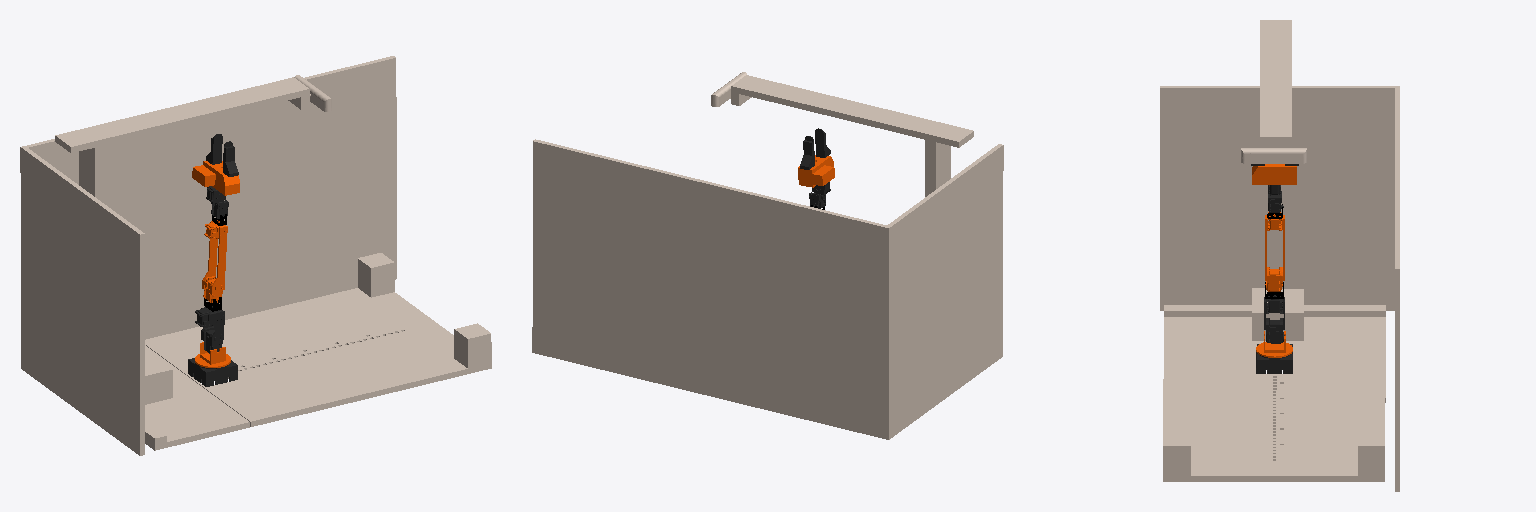
URDF robot description (clam):
<?xml version="1.0" ?>
<!-- =================================================================================== -->
<!-- |    This document was autogenerated by xacro from clam.xacro                     | -->
<!-- |    EDITING THIS FILE BY HAND IS NOT RECOMMENDED                                 | -->
<!-- =================================================================================== -->
<!-- Robot Description format of CLAM arm
[author] - [email redacted]
12/20/2012

Documentation:

URDF
http://www.ros.org/wiki/urdf/XML

Joint Safety Limits
http://www.ros.org/wiki/pr2_controller_manager/safety_limits

XARCO - Macro Language
http://www.ros.org/wiki/xacro

Gazebo Modeling
http://www.ros.org/wiki/simulator_gazebo/Tutorials/SpawningObjectInSimulation

-->
<robot name="clam">
  <!-- Include materials -->
  <material name="Black">
    <color rgba="0.0 0.0 0.0 1.0"/>
  </material>
  <material name="Blue">
    <color rgba="0.0 0.0 0.8 1.0"/>
  </material>
  <material name="Green">
    <color rgba="0.0 0.8 0.0 1.0"/>
  </material>
  <material name="Grey">
    <color rgba="0.2 0.2 0.2 1.0"/>
  </material>
  <material name="Orange">
    <color rgba="1.0 0.423529411765 0.0392156862745 1.0"/>
  </material>
  <material name="Brown">
    <color rgba="0.870588235294 0.811764705882 0.764705882353 1.0"/>
  </material>
  <material name="Red">
    <color rgba="0.8 0.0 0.0 1.0"/>
  </material>
  <material name="White">
    <color rgba="1.0 1.0 1.0 1.0"/>
  </material>
  <material name="GunMetalBrushedAluminum">
    <texture filename="package://clam_description/media/gun_metal_brushed_aluminum.jpg"/>
  </material>
  <!-- Constants -->
  <!-- TABLETOP LINK -->
  <joint name="tabletop_joint" type="fixed">
    <origin rpy="0 0 0" xyz="0 0 0"/>
    <parent link="base_link"/>
    <child link="tabletop_link"/>
  </joint>
  <link name="tabletop_link">
    <inertial>
      <origin xyz=" 0 0 -0.017"/>
      <mass value="100.0"/>
      <inertia ixx="1.0" ixy="0.0" ixz="0.0" iyy="100.0" iyz="0.0" izz="1.0"/>
    </inertial>
    <visual>
      <origin rpy="1.57 0 1.57" xyz=" 0 0 -0.017"/>
      <geometry>
        <mesh filename="package://clam_description/stl/tabletop_link.STL" scale="0.001 0.001 0.001"/>
      </geometry>
      <material name="Brown"/>
    </visual>
    <collision>
      <origin rpy="1.57 0 1.57" xyz=" 0 0 -0.017"/>
      <geometry>
        <mesh filename="package://clam_description/stl/tabletop_link_simple.STL" scale="0.001 0.001 0.001"/>
      </geometry>
    </collision>
  </link>
  <gazebo reference="tabletop_link">
    <material>Gazebo/Blue</material>
    <turnGravityOff>false</turnGravityOff>
  </gazebo>
  <!-- BASE LINK -->
  <link name="base_link">
    <!--inertial>
        <origin xyz="0 0 0" />
        <mass value="1.0" />
        <inertia  ixx="1.0" ixy="0.0"  ixz="0.0"  iyy="100.0"  iyz="0.0"  izz="1.0" />
        </inertial-->
    <visual>
      <origin rpy="1.57 0 0" xyz="0 0 0"/>
      <!-- rotate PI/2 -->
      <geometry>
        <mesh filename="package://clam_description/stl/base_link.STL" scale="0.001 0.001 0.001"/>
      </geometry>
      <material name="Grey"/>
    </visual>
    <collision>
      <origin rpy="1.57 0 0" xyz="0 0 0"/>
      <!-- rotate PI/2 -->
      <geometry>
        <mesh filename="package://clam_description/stl/base_link_simple.STL" scale="0.001 0.001 0.001"/>
      </geometry>
    </collision>
  </link>
  <gazebo reference="base_link">
    <material>Gazebo/Blue</material>
    <turnGravityOff>false</turnGravityOff>
  </gazebo>
  <joint name="shoulder_pan_joint" type="revolute">
    <parent link="base_link"/>
    <child link="shoulder_pan_link"/>
    <origin rpy="0 1.57 0.0" xyz="0 0 0.05"/>
    <axis xyz="-1 0 0"/>
    <limit effort="300" lower="-2.617" upper="1.98" velocity="1"/>
    <dynamics damping="50" friction="1"/>
  </joint>
  <transmission name="shoulder_pan_controller" type="pr2_mechanism_model/SimpleTransmission">
    <actuator name="shoulder_pan_actuator"/>
    <joint name="shoulder_pan_joint"/>
    <mechanicalReduction>1</mechanicalReduction>
    <motorTorqueConstant>1</motorTorqueConstant>
  </transmission>
  <!-- SHOULDER PAN LINK -->
  <link name="shoulder_pan_link">
    <inertial>
      <origin xyz="0 0 0"/>
      <mass value="1.0"/>
      <inertia ixx="1.0" ixy="0.0" ixz="0.0" iyy="100.0" iyz="0.0" izz="1.0"/>
    </inertial>
    <visual>
      <origin rpy="0 0 1.57" xyz="0 0 0"/>
      <geometry>
        <mesh filename="package://clam_description/stl/shoulder_pan_link_simple.STL" scale="0.001 0.001 0.001"/>
      </geometry>
      <material name="Orange"/>
    </visual>
    <collision>
      <origin rpy="0 0 1.57" xyz="0 0 0"/>
      <geometry>
        <mesh filename="package://clam_description/stl/shoulder_pan_link_simple.STL" scale="0.001 0.001 0.001"/>
      </geometry>
    </collision>
  </link>
  <gazebo reference="shoulder_pan_link">
    <material>Gazebo/Blue</material>
    <turnGravityOff>false</turnGravityOff>
  </gazebo>
  <joint name="shoulder_pitch_joint" type="revolute">
    <parent link="shoulder_pan_link"/>
    <child link="shoulder_pitch_link"/>
    <origin rpy="-1.57 0 1.57" xyz="-0.041 0.002 0.0"/>
    <axis xyz="1 0 0"/>
    <limit effort="300" lower="-1.199" upper="1.899" velocity="1"/>
    <dynamics damping="50" friction="1"/>
  </joint>
  <!-- SHOULDER PITCH LINK -->
  <link name="shoulder_pitch_link">
    <inertial>
      <origin xyz="-0.002 0 -0.000"/>
      <mass value="1.0"/>
      <inertia ixx="1.0" ixy="0.0" ixz="0.0" iyy="100.0" iyz="0.0" izz="1.0"/>
    </inertial>
    <visual>
      <origin rpy="1.57 3.14 1.57" xyz="-0.002 0 -0.000"/>
      <geometry>
        <mesh filename="package://clam_description/stl/shoulder_pitch_link.STL" scale="0.001 0.001 0.001"/>
      </geometry>
      <material name="Grey"/>
    </visual>
    <collision>
      <origin rpy="1.57 3.14 1.57" xyz="-0.002 0 -0.000"/>
      <geometry>
        <mesh filename="package://clam_description/stl/shoulder_pitch_link_simple.STL" scale="0.001 0.001 0.001"/>
      </geometry>
    </collision>
  </link>
  <gazebo reference="shoulder_pitch_link">
    <material>Gazebo/Blue</material>
    <turnGravityOff>false</turnGravityOff>
  </gazebo>
  <joint name="elbow_roll_joint" type="revolute">
    <parent link="shoulder_pitch_link"/>
    <child link="elbow_roll_link"/>
    <origin rpy="3.14 1.57 0" xyz="-0.002 0 0.121"/>
    <axis xyz="-1 0 0"/>
    <limit effort="300" lower="-2.617" upper="0.705" velocity="1"/>
    <dynamics damping="50" friction="1"/>
  </joint>
  <!-- ELBOW ROLL LINK -->
  <link name="elbow_roll_link">
    <inertial>
      <origin xyz="-0.035 0.0 0.0"/>
      <mass value="1.0"/>
      <inertia ixx="1.0" ixy="0.0" ixz="0.0" iyy="100.0" iyz="0.0" izz="1.0"/>
    </inertial>
    <visual>
      <origin rpy="3.14 1.57 1.57" xyz="-0.035 0.0 0.0"/>
      <geometry>
        <mesh filename="package://clam_description/stl/elbow_roll_link.STL" scale="0.001 0.001 0.001"/>
      </geometry>
      <material name="Black"/>
    </visual>
    <collision>
      <origin rpy="3.14 1.57 1.57" xyz="-0.035 0.0 0.0"/>
      <geometry>
        <mesh filename="package://clam_description/stl/elbow_roll_link_simple.STL" scale="0.001 0.001 0.001"/>
      </geometry>
    </collision>
  </link>
  <gazebo reference="elbow_roll_link">
    <material>Gazebo/Blue</material>
    <turnGravityOff>false</turnGravityOff>
  </gazebo>
  <joint name="elbow_pitch_joint" type="revolute">
    <parent link="elbow_roll_link"/>
    <child link="elbow_pitch_link"/>
    <origin rpy="0.055 1.57 0" xyz="-0.035 0 0.0"/>
    <axis xyz="1 0 0"/>
    <limit effort="300" lower="-1.595" upper="1.932" velocity="1"/>
    <dynamics damping="50" friction="1"/>
  </joint>
  <!-- ELBOW PITCH LINK -->
  <link name="elbow_pitch_link">
    <inertial>
      <origin xyz="0.0 0 0"/>
      <mass value="1.0"/>
      <inertia ixx="1.0" ixy="0.0" ixz="0.0" iyy="100.0" iyz="0.0" izz="1.0"/>
    </inertial>
    <visual>
      <origin rpy="1.57 0 4.71" xyz="0.0 0 0"/>
      <geometry>
        <mesh filename="package://clam_description/stl/elbow_pitch_link.STL" scale="0.001 0.001 0.001"/>
      </geometry>
      <material name="Orange"/>
    </visual>
    <collision>
      <origin rpy="1.57 0 4.71" xyz="0.0 0 0"/>
      <geometry>
        <mesh filename="package://clam_description/stl/elbow_pitch_link_simple.STL" scale="0.001 0.001 0.001"/>
      </geometry>
    </collision>
  </link>
  <gazebo reference="elbow_pitch_link">
    <material>Gazebo/Blue</material>
    <turnGravityOff>false</turnGravityOff>
  </gazebo>
  <joint name="wrist_roll_joint" type="revolute">
    <parent link="elbow_pitch_link"/>
    <child link="wrist_roll_link"/>
    <origin rpy="0 1.57 3.14" xyz="0.0 0.008 -.248"/>
    <axis xyz="1 0 0"/>
    <limit effort="300" lower="-2.617" upper="2.612" velocity="1"/>
    <dynamics damping="50" friction="1"/>
  </joint>
  <!-- WRIST ROLL LINK -->
  <link name="wrist_roll_link">
    <inertial>
      <origin xyz="0 0 0"/>
      <mass value="1.0"/>
      <inertia ixx="1.0" ixy="0.0" ixz="0.0" iyy="100.0" iyz="0.0" izz="1.0"/>
    </inertial>
    <visual>
      <origin rpy="0 1.57 1.57" xyz="0 0 0"/>
      <geometry>
        <mesh filename="package://clam_description/stl/wrist_roll_link.STL" scale="0.001 0.001 0.001"/>
      </geometry>
      <material name="Black"/>
    </visual>
    <collision>
      <origin rpy="0 1.57 1.57" xyz="0 0 0"/>
      <geometry>
        <mesh filename="package://clam_description/stl/wrist_roll_link_simple.STL" scale="0.001 0.001 0.001"/>
      </geometry>
    </collision>
  </link>
  <gazebo reference="wrist_roll_link">
    <material>Gazebo/Blue</material>
    <turnGravityOff>false</turnGravityOff>
  </gazebo>
  <joint name="wrist_pitch_joint" type="revolute">
    <parent link="wrist_roll_link"/>
    <child link="wrist_pitch_link"/>
    <origin rpy="0 1.57 0" xyz="0.0 0.0 0.0001"/>
    <axis xyz="1 0 0"/>
    <limit effort="300" lower="-1.595" upper="1.983" velocity="1"/>
    <dynamics damping="50" friction="1"/>
  </joint>
  <!-- WRIST PITCH LINK -->
  <link name="wrist_pitch_link">
    <inertial>
      <origin xyz="0 0 0"/>
      <mass value="1.0"/>
      <inertia ixx="1.0" ixy="0.0" ixz="0.0" iyy="100.0" iyz="0.0" izz="1.0"/>
    </inertial>
    <visual>
      <origin rpy="3.14 -1.57 0" xyz="0 0 0"/>
      <geometry>
        <mesh filename="package://clam_description/stl/wrist_pitch_link.STL" scale="0.001 0.001 0.001"/>
      </geometry>
      <material name="Grey"/>
    </visual>
    <collision>
      <origin rpy="3.14 -1.57 0" xyz="0 0 0"/>
      <geometry>
        <mesh filename="package://clam_description/stl/wrist_pitch_link_simple.STL" scale="0.001 0.001 0.001"/>
      </geometry>
    </collision>
  </link>
  <gazebo reference="wrist_pitch_link">
    <material>Gazebo/Blue</material>
    <turnGravityOff>false</turnGravityOff>
  </gazebo>
  <joint name="gripper_roll_joint" type="revolute">
    <parent link="wrist_pitch_link"/>
    <child link="gripper_roll_link"/>
    <origin rpy="4.71 -1.57 0" xyz="0 0 0.080"/>
    <axis xyz="1 0 0"/>
    <limit effort="300" lower="-2.617" upper="2.612" velocity="1"/>
    <dynamics damping="50" friction="1"/>
  </joint>
  <!-- GRIPPER ROLL LINK -->
  <link name="gripper_roll_link">
    <inertial>
      <origin xyz="0 0 0"/>
      <mass value="1.0"/>
      <inertia ixx="1.0" ixy="0.0" ixz="0.0" iyy="100.0" iyz="0.0" izz="1.0"/>
    </inertial>
    <visual>
      <origin rpy="0 0 0" xyz="0 0 0"/>
      <geometry>
        <mesh filename="package://clam_description/stl/gripper_base_link.STL" scale="0.001 0.001 0.001"/>
      </geometry>
      <material name="Orange"/>
    </visual>
    <collision>
      <origin rpy="0 0 0" xyz="0 0 0"/>
      <geometry>
        <mesh filename="package://clam_description/stl/gripper_base_link.STL" scale="0.001 0.001 0.001"/>
      </geometry>
    </collision>
  </link>
  <gazebo reference="gripper_roll_link">
    <material>Gazebo/Blue</material>
    <turnGravityOff>false</turnGravityOff>
  </gazebo>
  <!-- Gripper Fixed Finger -->
  <joint name="gripper_fixed_finger_joint" type="fixed">
    <origin rpy="0 0 0" xyz="0.055 0.028 0.0"/>
    <!-- x=up to heaven  y=left to wall z=back towards motor houseing -->
    <parent link="gripper_roll_link"/>
    <child link="gripper_fixed_finger_link"/>
  </joint>
  <link name="gripper_fixed_finger_link">
    <inertial>
      <origin xyz="0 0 0"/>
      <mass value="0.01"/>
      <inertia ixx="1.0" ixy="0.0" ixz="0.0" iyy="100.0" iyz="0.0" izz="1.0"/>
    </inertial>
    <visual>
      <origin rpy="0 0 0" xyz="0 0 0"/>
      <geometry>
        <mesh filename="package://clam_description/stl/gripper_finger_link.STL" scale="0.001 0.001 0.001"/>
      </geometry>
      <material name="Grey"/>
    </visual>
    <collision>
      <origin rpy="0 0 0" xyz="0 0 0"/>
      <geometry>
        <mesh filename="package://clam_description/stl/gripper_finger_link.STL" scale="0.001 0.001 0.001"/>
      </geometry>
    </collision>
  </link>
  <!-- Gripper Moving Finger -->
  <joint name="gripper_finger_joint" type="fixed">
    <origin rpy="3.14 0 0" xyz="0.055 -0.0275 0.0"/>
    <!-- x=up to heaven  y=left to wall z=back towards motor houseing -->
    <parent link="gripper_roll_link"/>
    <child link="gripper_finger_link"/>
    <axis xyz="0 1 0"/>
    <limit effort="300" lower="-0.924555555556" upper="0.0" velocity="1"/>
    <dynamics damping="50" friction="1"/>
  </joint>
  <link name="gripper_finger_link">
    <inertial>
      <origin xyz="0 0 0"/>
      <mass value="0.01"/>
      <inertia ixx="1.0" ixy="0.0" ixz="0.0" iyy="100.0" iyz="0.0" izz="1.0"/>
    </inertial>
    <visual>
      <origin rpy="0 0 0" xyz="0 0 0"/>
      <geometry>
        <mesh filename="package://clam_description/stl/gripper_finger_link.STL" scale="0.001 0.001 0.001"/>
      </geometry>
      <material name="Grey"/>
    </visual>
    <collision>
      <origin rpy="0 0 0" xyz="0 0 0"/>
      <geometry>
        <mesh filename="package://clam_description/stl/gripper_finger_link.STL" scale="0.001 0.001 0.001"/>
      </geometry>
    </collision>
  </link>
</robot>

--- Render facts (derived) ---
Views: 3 orthographic renders of the robot side by side, from view 1: azimuth 30°, elevation 25°; view 2: azimuth 150°, elevation 25°; view 3: azimuth 270°, elevation 25°.
Model clam with 11 links and 10 joints (7 revolute, 3 fixed), rooted at base_link, posed all joints at 0.
Visible links, largest first — view 1: tabletop_link, elbow_pitch_link, gripper_roll_link, shoulder_pitch_link, base_link, shoulder_pan_link; view 2: tabletop_link, gripper_roll_link; view 3: tabletop_link, gripper_roll_link, elbow_pitch_link, shoulder_pitch_link, base_link.
Link boxes in pixels (x1=…): tabletop_link: x1=20, y1=56, x2=491, y2=455; elbow_pitch_link: x1=202, y1=220, x2=227, y2=302; gripper_roll_link: x1=192, y1=161, x2=239, y2=195; shoulder_pitch_link: x1=195, y1=306, x2=224, y2=353; base_link: x1=188, y1=358, x2=237, y2=386; shoulder_pan_link: x1=195, y1=342, x2=230, y2=367; tabletop_link: x1=532, y1=72, x2=1003, y2=439; gripper_roll_link: x1=798, y1=155, x2=834, y2=187; tabletop_link: x1=1160, y1=20, x2=1399, y2=491; gripper_roll_link: x1=1252, y1=164, x2=1296, y2=184; elbow_pitch_link: x1=1265, y1=212, x2=1284, y2=291; shoulder_pitch_link: x1=1264, y1=295, x2=1284, y2=343; base_link: x1=1256, y1=344, x2=1292, y2=373.
Bounding box of the posed robot: 1.25 × 0.6599 × 0.8444 m (x, y, z).
11 mesh visuals loaded from 10 distinct referenced files (10 binary STL).